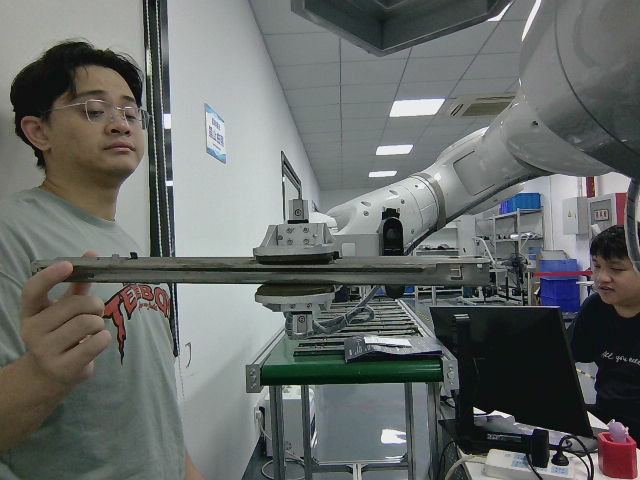up: (73, 254, 491, 287)
